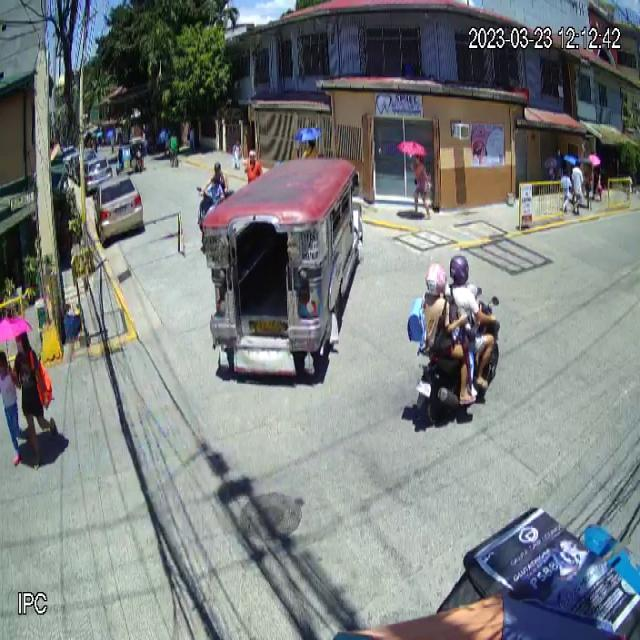Jeep: (202, 158, 364, 378)
Motorcycle: (416, 286, 504, 419)
